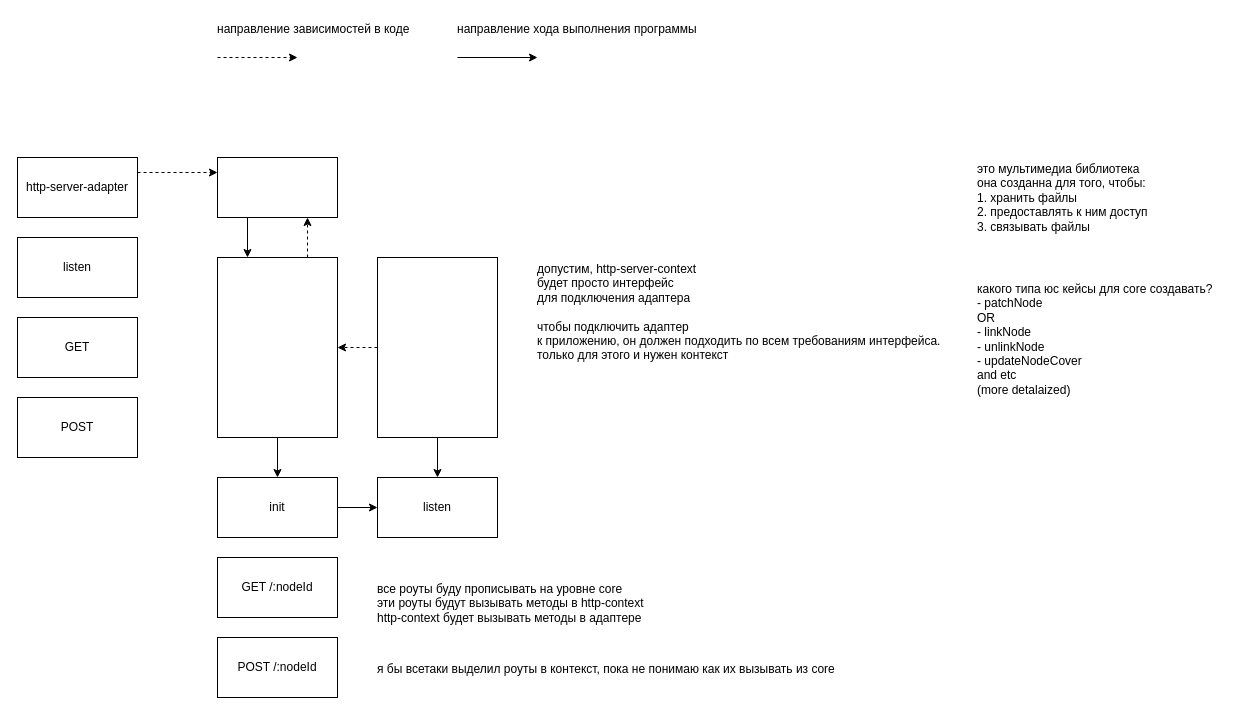
The diagram is 1245 pixels wide and 715 high, and some of its shapes have lost their labels. The shapes that lost their labels are listed below. From the top down, each one's box as (x1, y1, x2, y2) in pixels, then its label:
(216, 156, 338, 218): entrypoint
(216, 256, 338, 438): core
(376, 256, 498, 438): http-server-context
